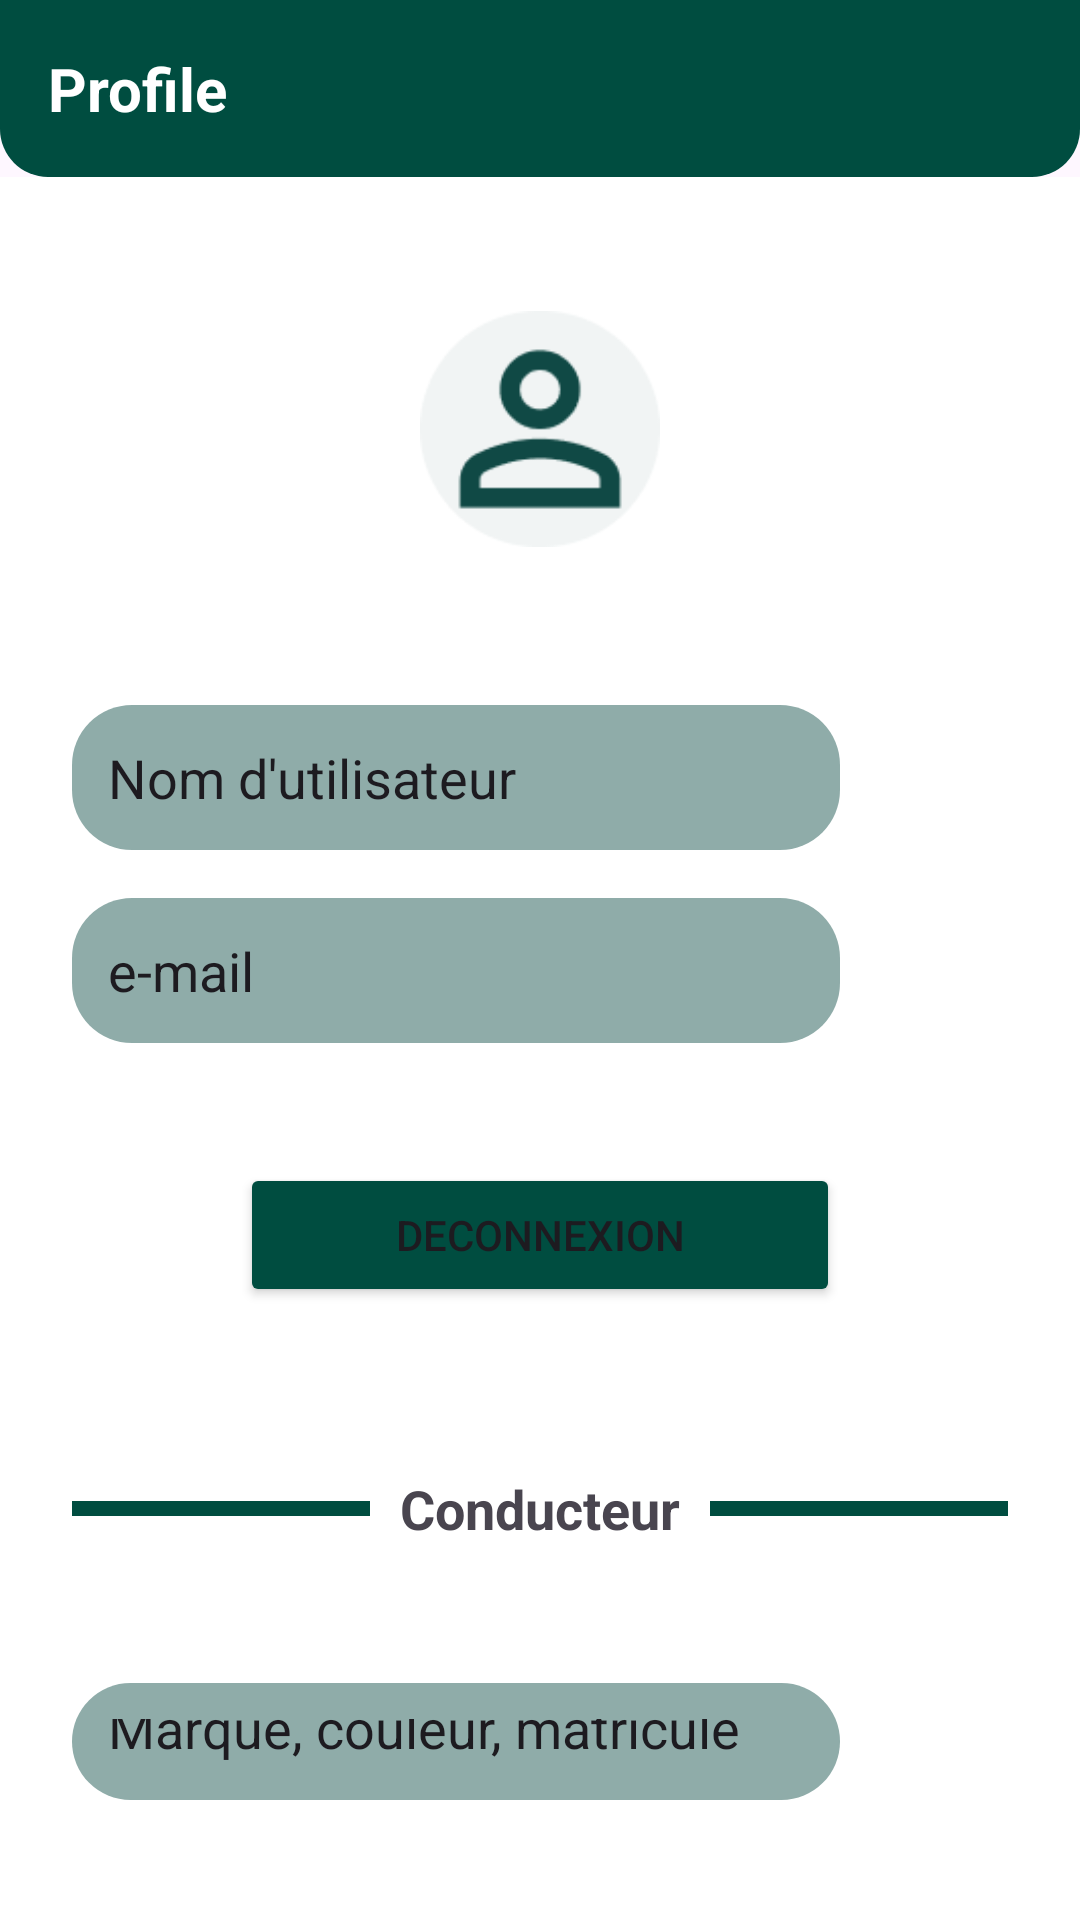

Where to tap for icons on this 1080 x 1920 app screen, as [x,y]:
person: [540,429]
